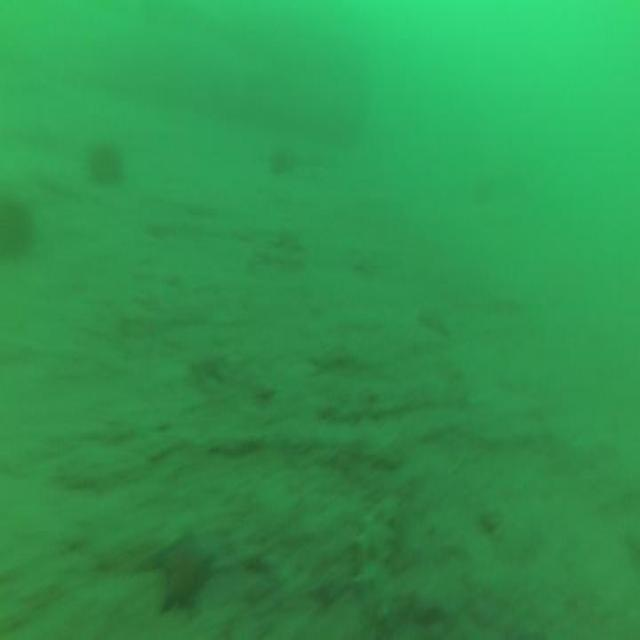echinus: (0, 191, 43, 266), (87, 136, 128, 194)
holothurian: (349, 479, 407, 637)
starfish: (154, 514, 220, 620)
